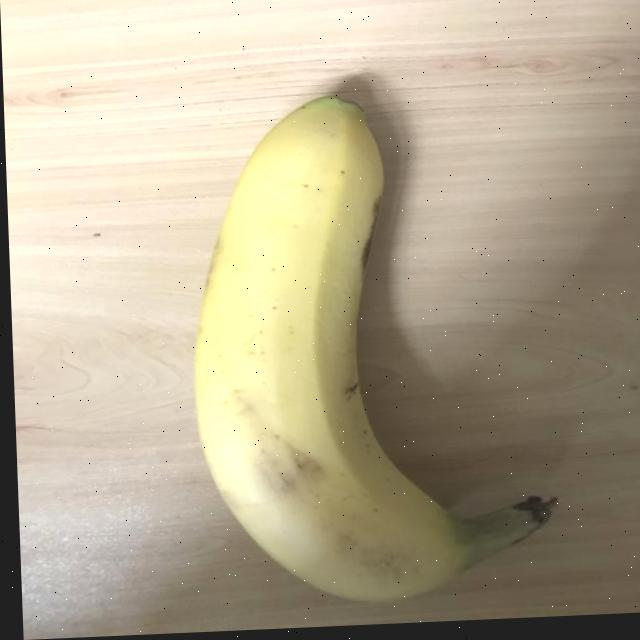banana: (186, 73, 562, 612)
